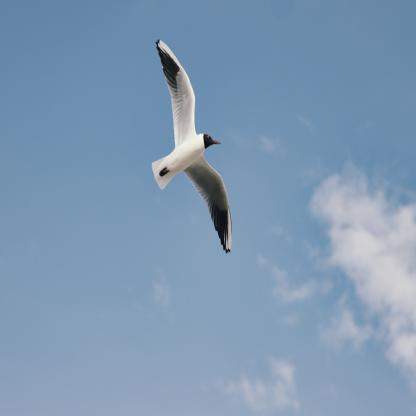bird: (151, 38, 233, 254)
